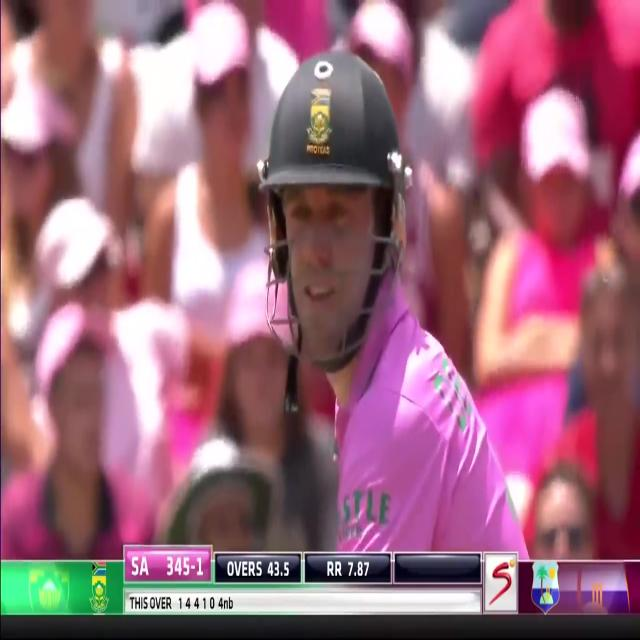Ball: (185, 54, 519, 554)
